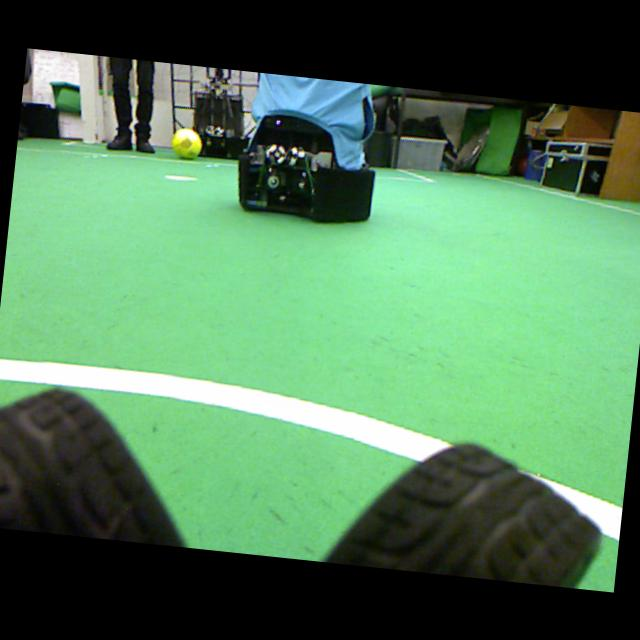ball: (170, 128, 201, 159)
goal: (77, 53, 96, 143)
robot: (192, 67, 250, 160)
